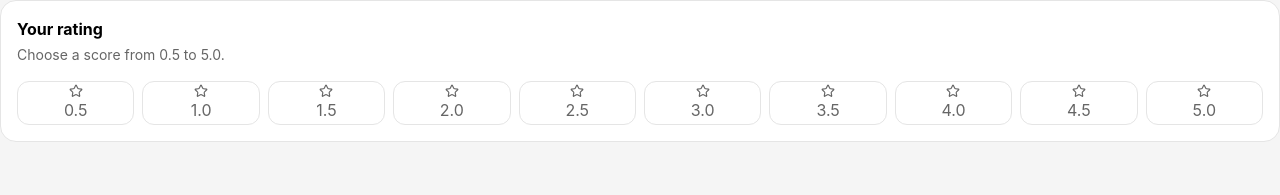
Test: RatingControl › submits a half-step rating through the upsert endpoint
Click the radio button named "Rate 4.5 out of 5" at (1079, 103), box [1020,81,1138,125]
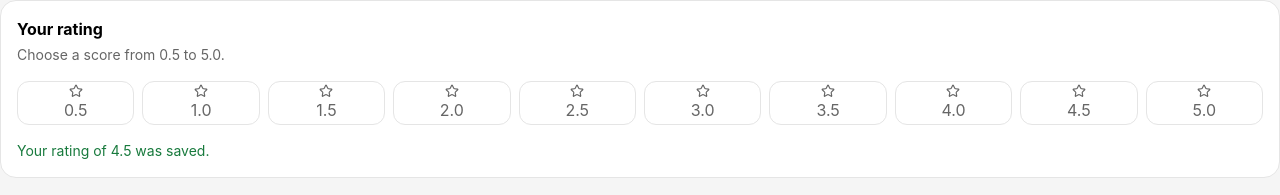
expect the text "Your rating of 4.5 was saved." is shown: met, box [17,142,209,159]
